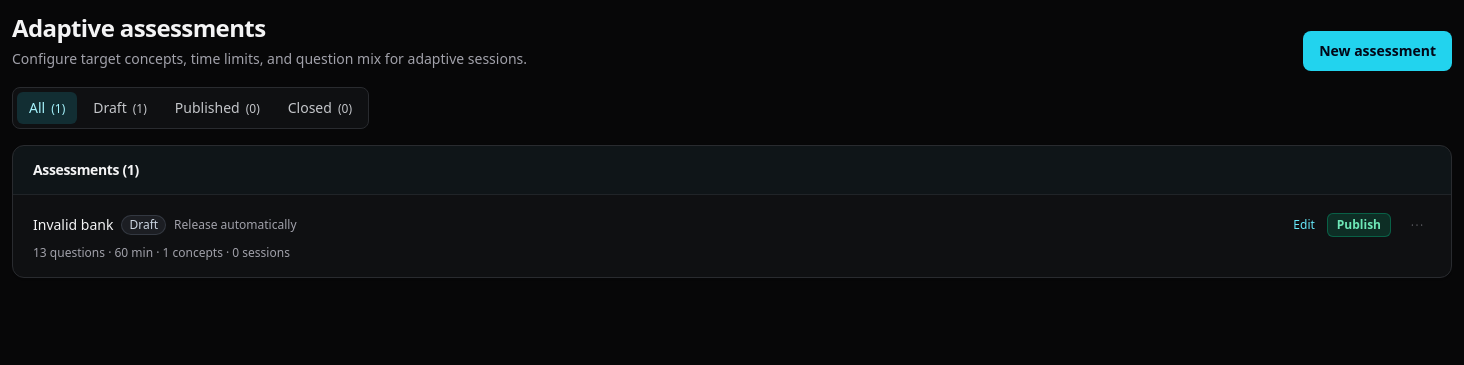
Test: surfaces a failed activation and restores retry controls
The width and height of the screenshot is (1464, 365).
Expected: the text "Invalid bank" is shown, [33, 215, 113, 235]
What coordinates should you click on to do the following:
click the button "Publish"
I would click on:
 (1359, 225)
Its box is [1327, 213, 1391, 237].
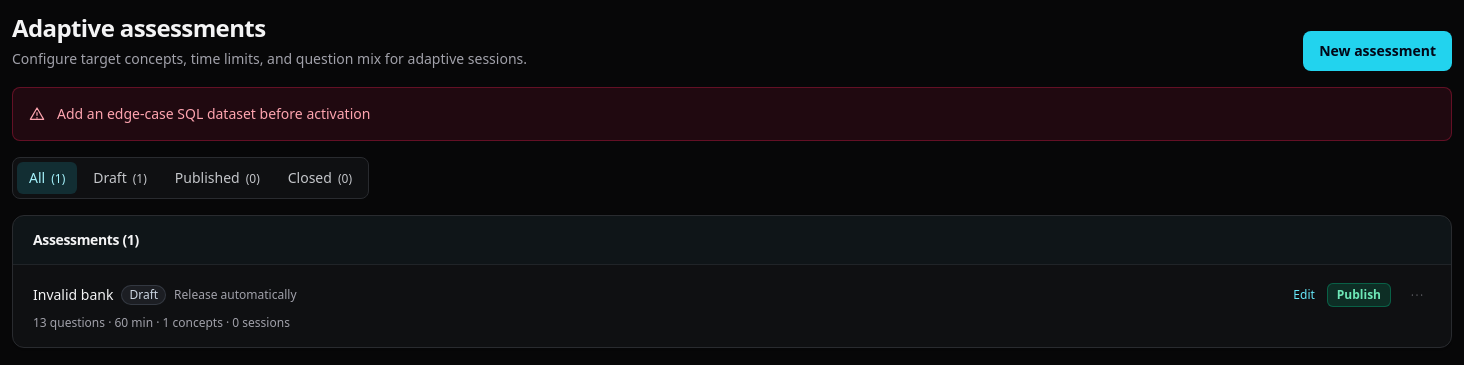
Expected: the button "Publish" is enabled, [1327, 283, 1391, 307]
Now the message reads "Add an edge-case SQL dataset before activation", box [57, 104, 370, 123]
